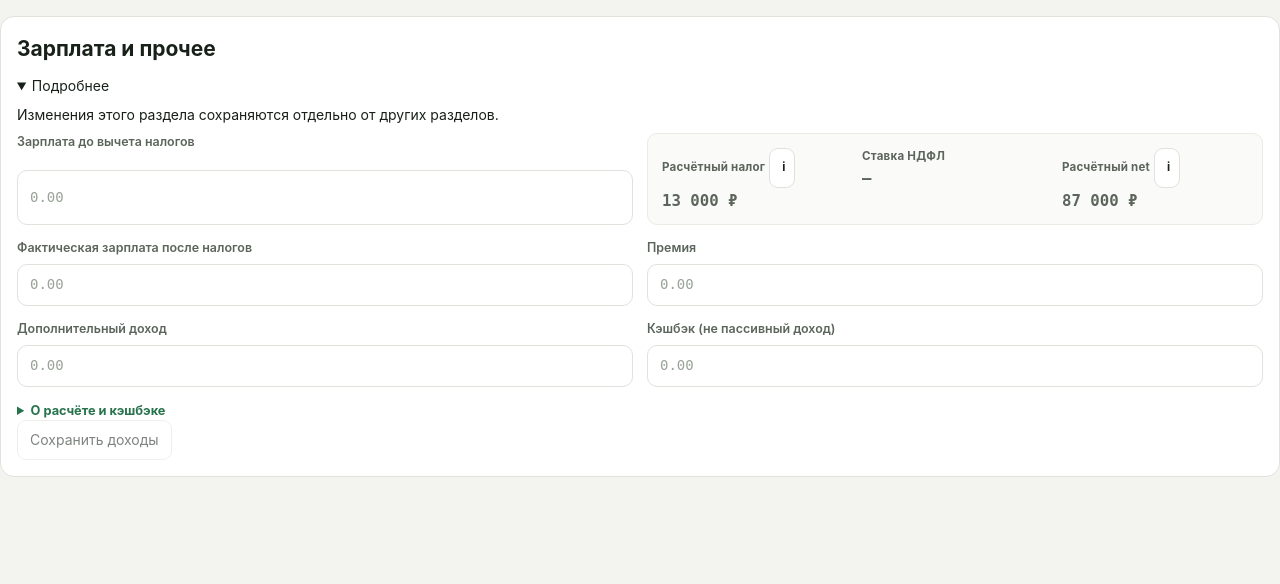
Test: native month editor income leaf › keeps a failed save visible without claiming success
Expected: the field labelled "Зарплата до вычета налогов" is shown, [17,170,633,225]
In the field labelled "Премия": (955, 285) [647,264,1263,306], type "5000"
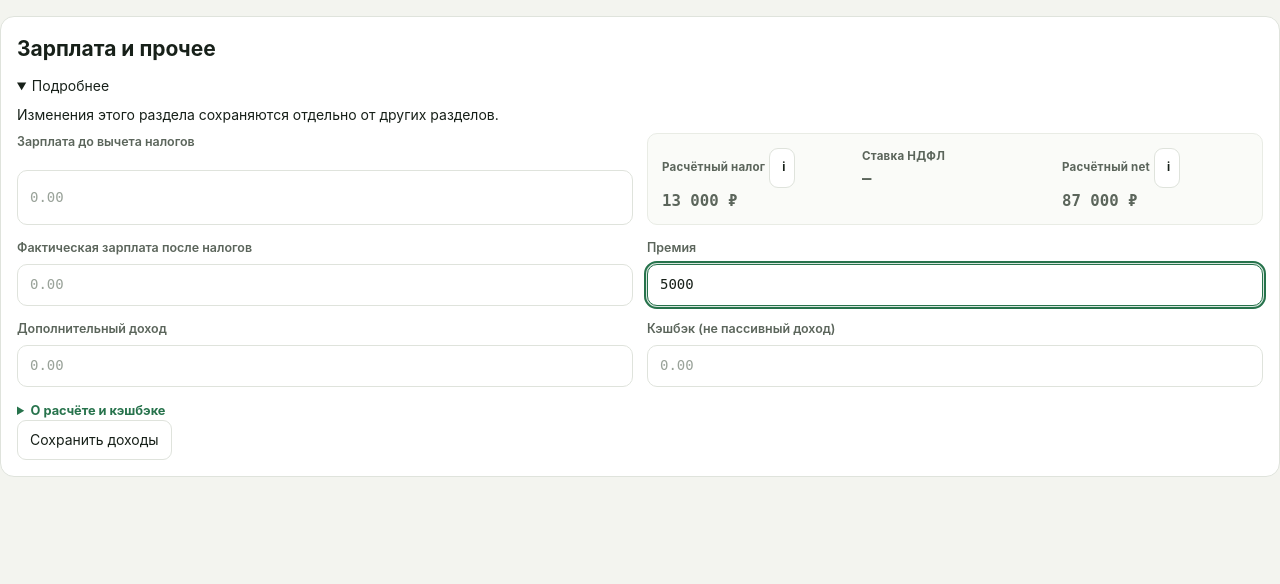
Click the button "Сохранить доходы": (94, 440) [17,420,172,460]
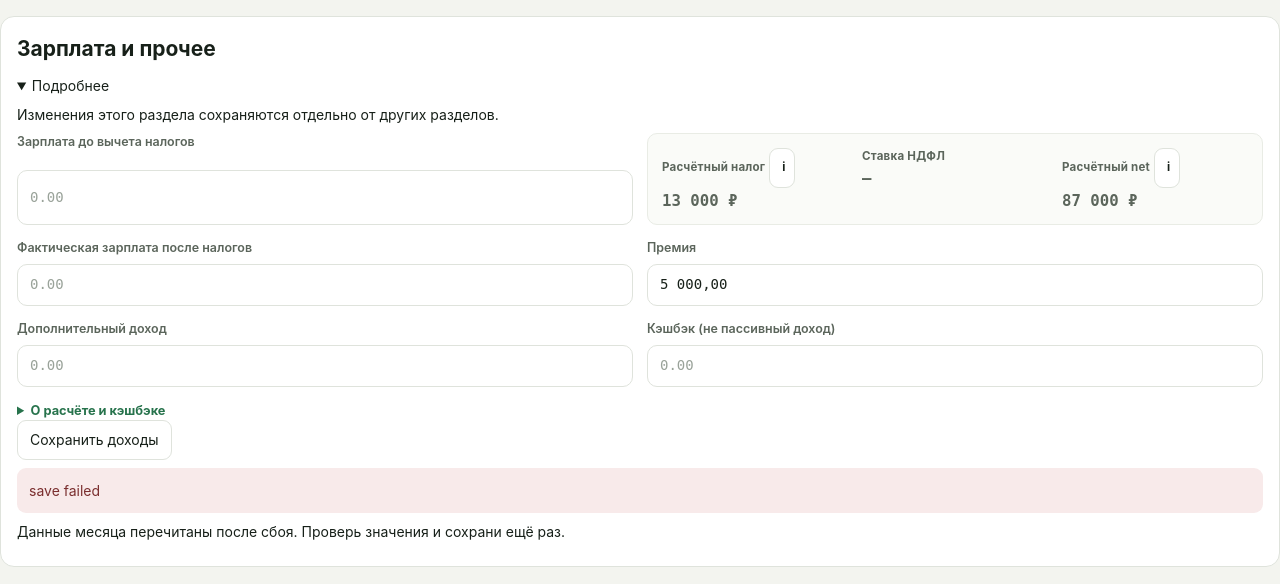
Expected: the button "Сохранить доходы" is enabled, [17,420,172,460]
Expected: the message "save failed" is shown, [17,468,1263,513]
